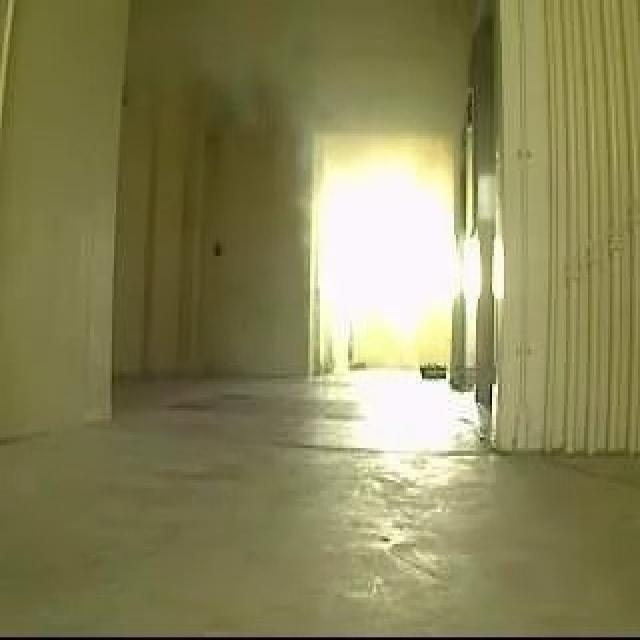smoke: (155, 4, 321, 155)
